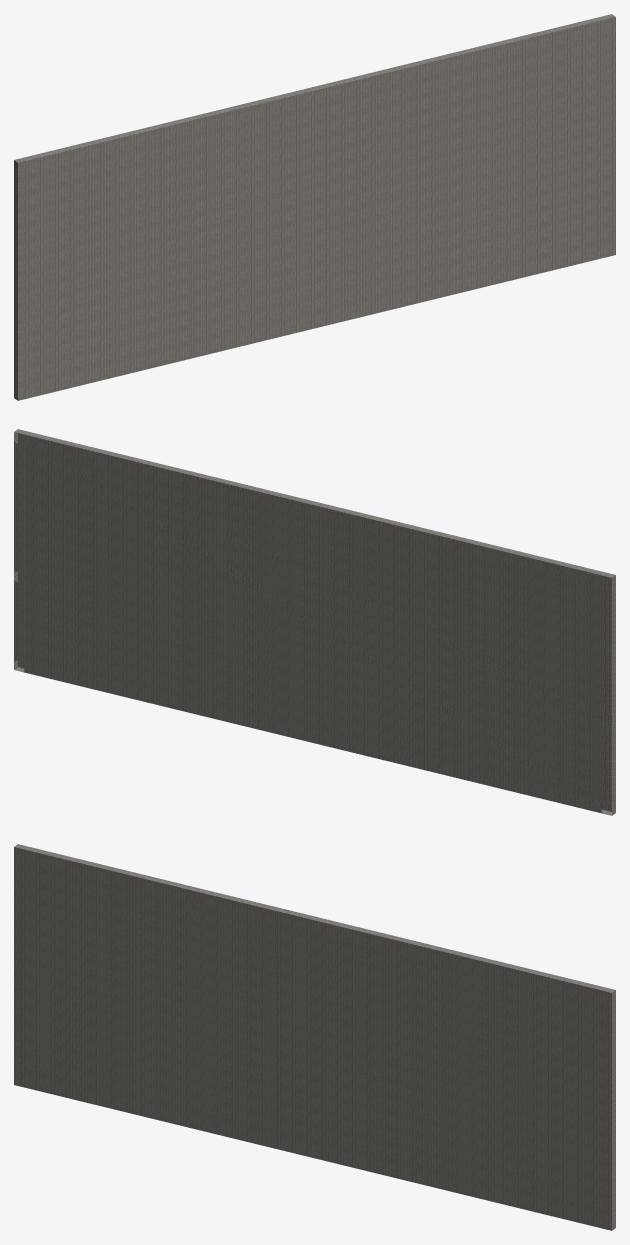
The model's file is celing.fbx.
3 views of the same model, one above another, from view 1: azimuth 30°, elevation 25°; view 2: azimuth 150°, elevation 25°; view 3: azimuth 330°, elevation 25° (orthographic).
Parts seen in each view (by area): view 1: ID158; view 2: ID158; view 3: ID158.
Part boxes in pixels (x1,y1,x2,y2): ID158: (14, 14, 615, 400); ID158: (14, 429, 615, 815); ID158: (14, 844, 615, 1230).
Size of the model in its own units: 1033 by 393 by 12.
1 material, 1 textured.
